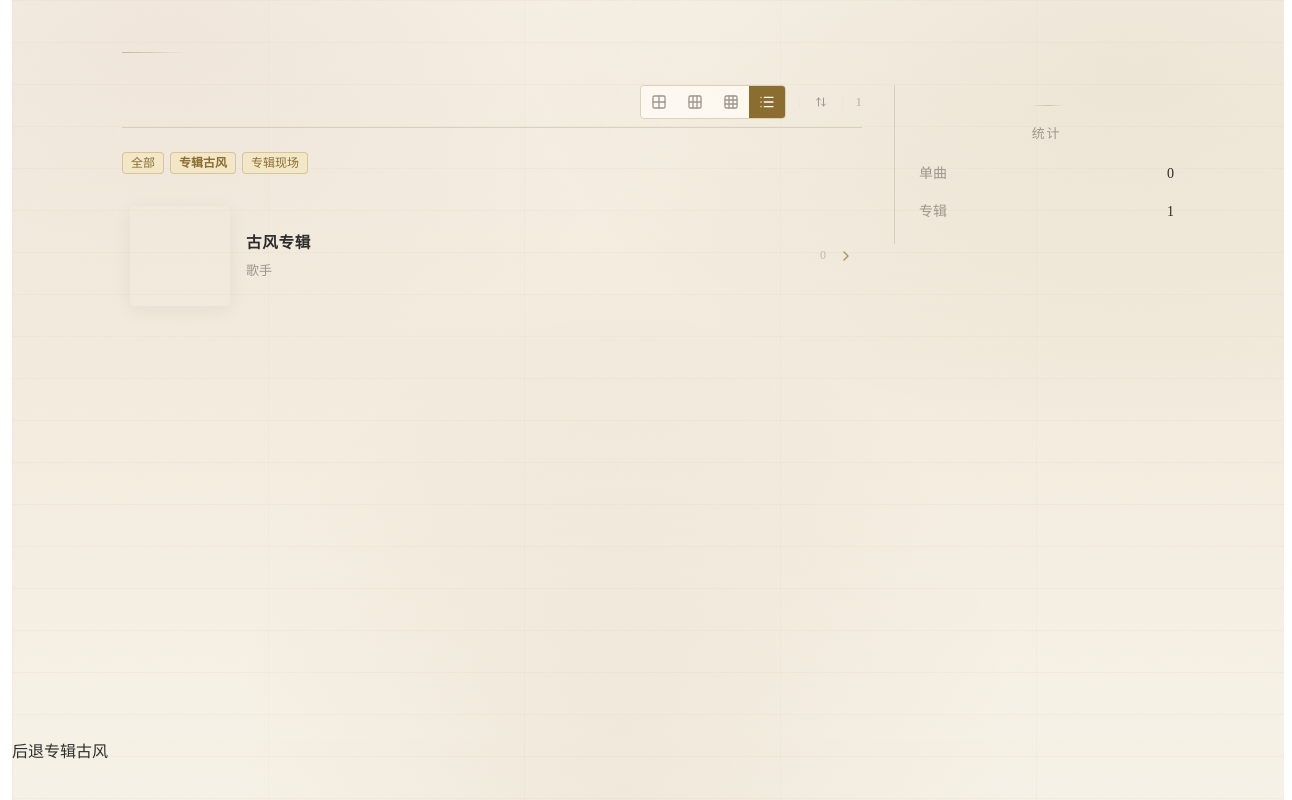
音乐列表页标签按钮 › 增量模式切换专辑标签时替换旧结果
The image size is (1292, 800).
Expected: the text "古风专辑" is shown, [246,234,311,251]
Click the button "专辑现场" at (275, 163), box [242,152,308,174]
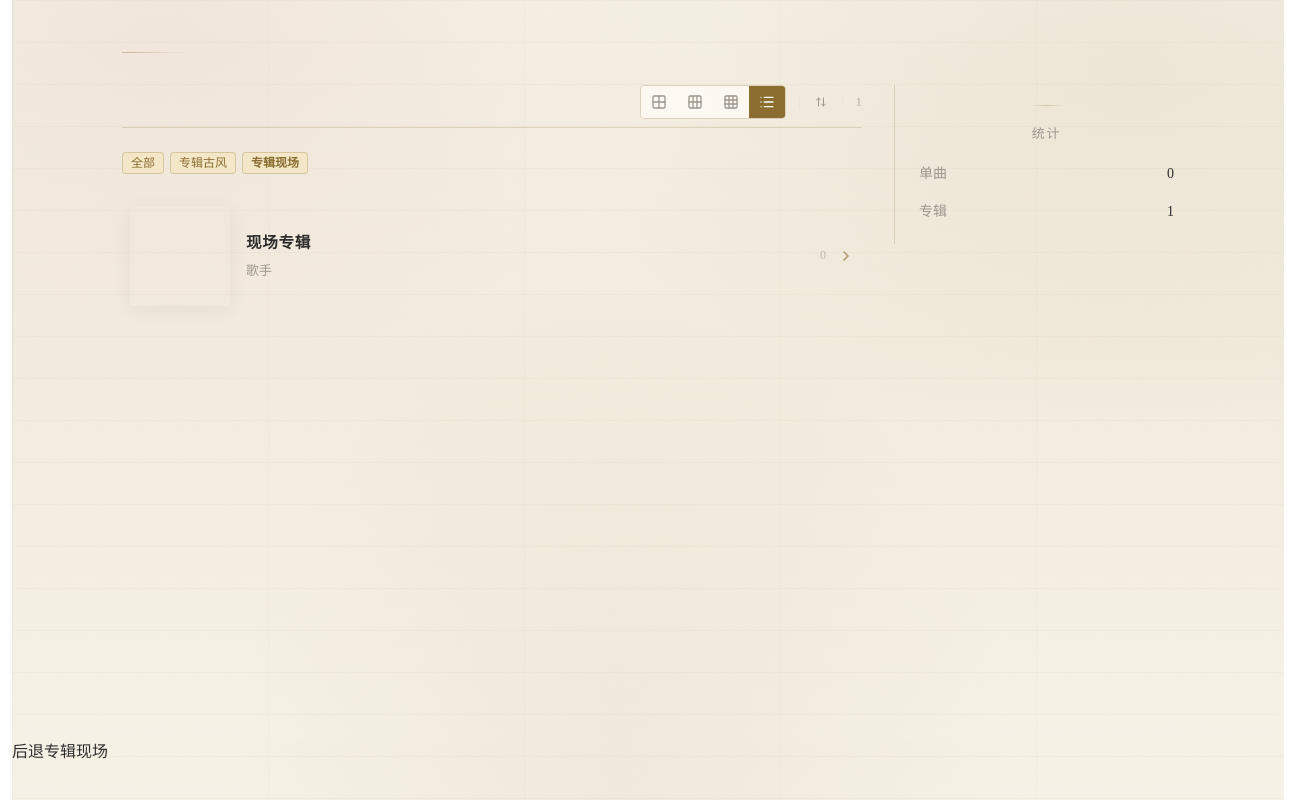
Now the text "现场专辑" is shown, box [246,234,311,251]
Now the link "古风专辑" is gone
